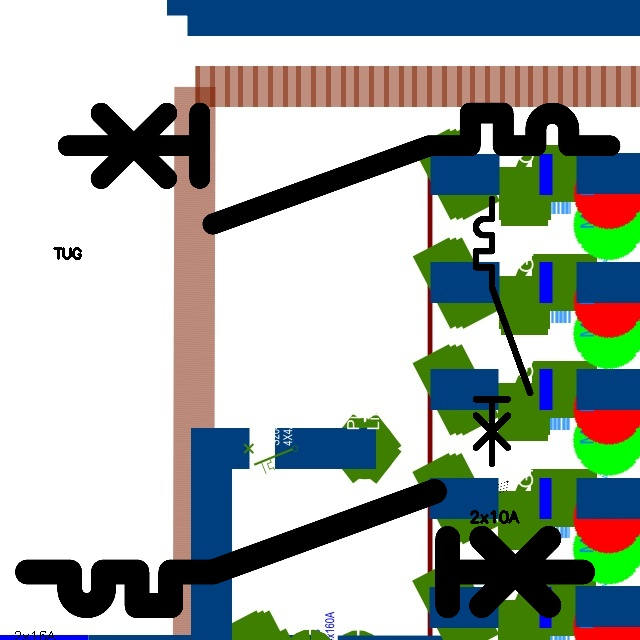interruptor_termomagnetico: (13, 477, 596, 620), (54, 99, 624, 238), (469, 192, 537, 471)
